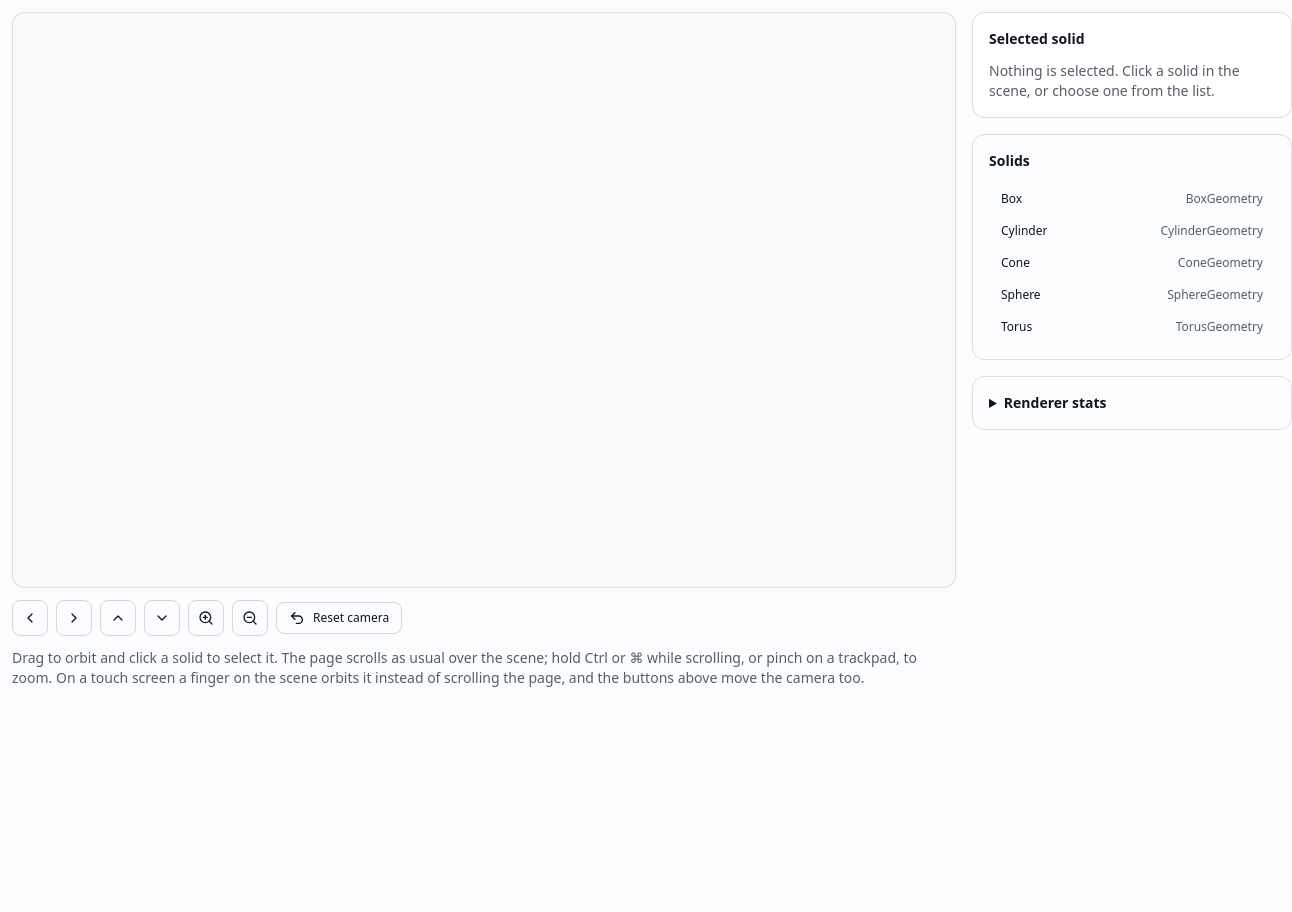
Scenario: selecting a solid › clears from a click on empty ground, and from the Clear button
Expected: the text "Nothing is selected" is shown, [989,61,1240,100]
Step 1. Click the button "Torus TorusGeometry" → (1017, 326), box [989,311,1275,343]
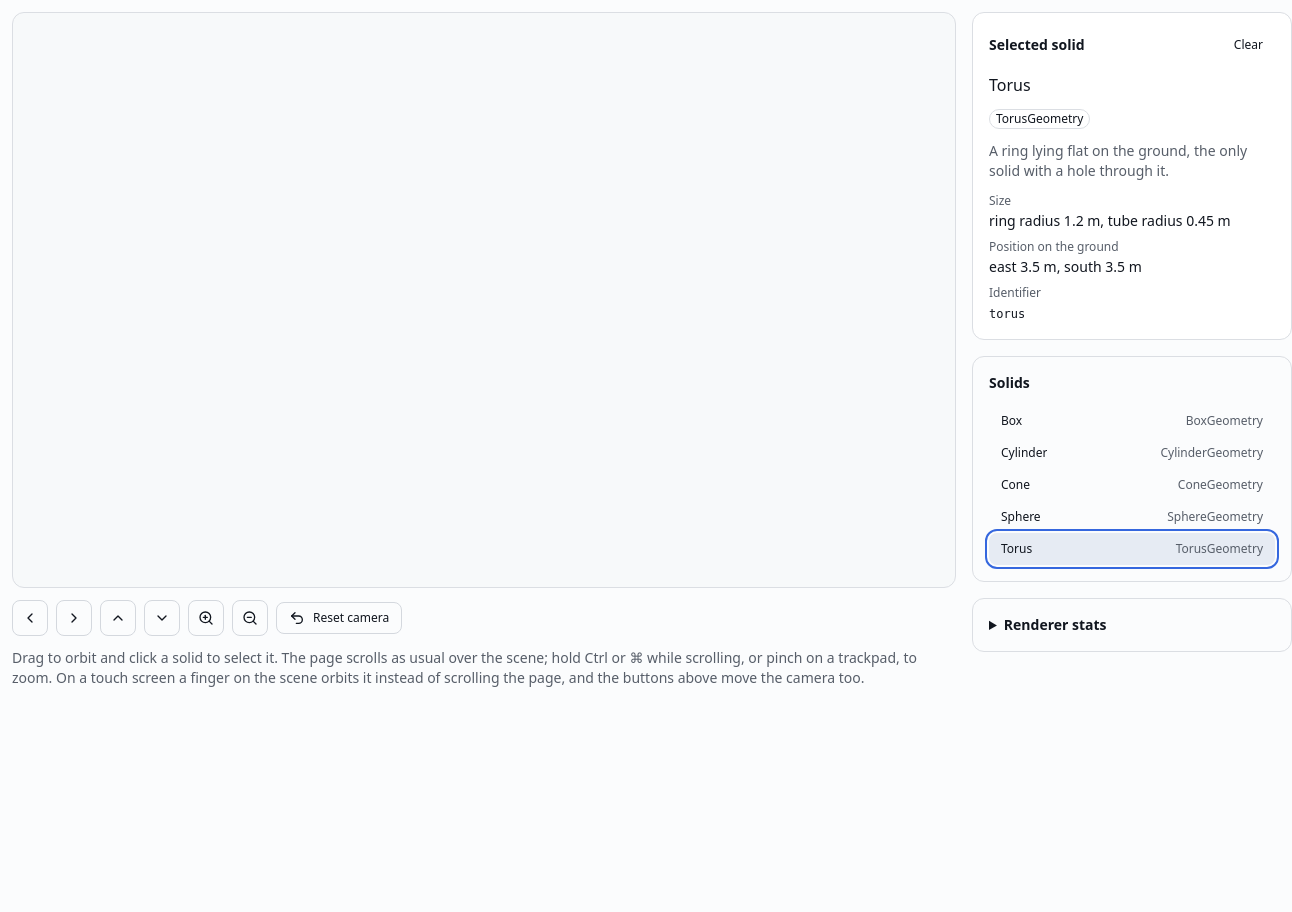
Step 2. Click the button "Clear" → (1248, 45), box [1222,29,1275,61]
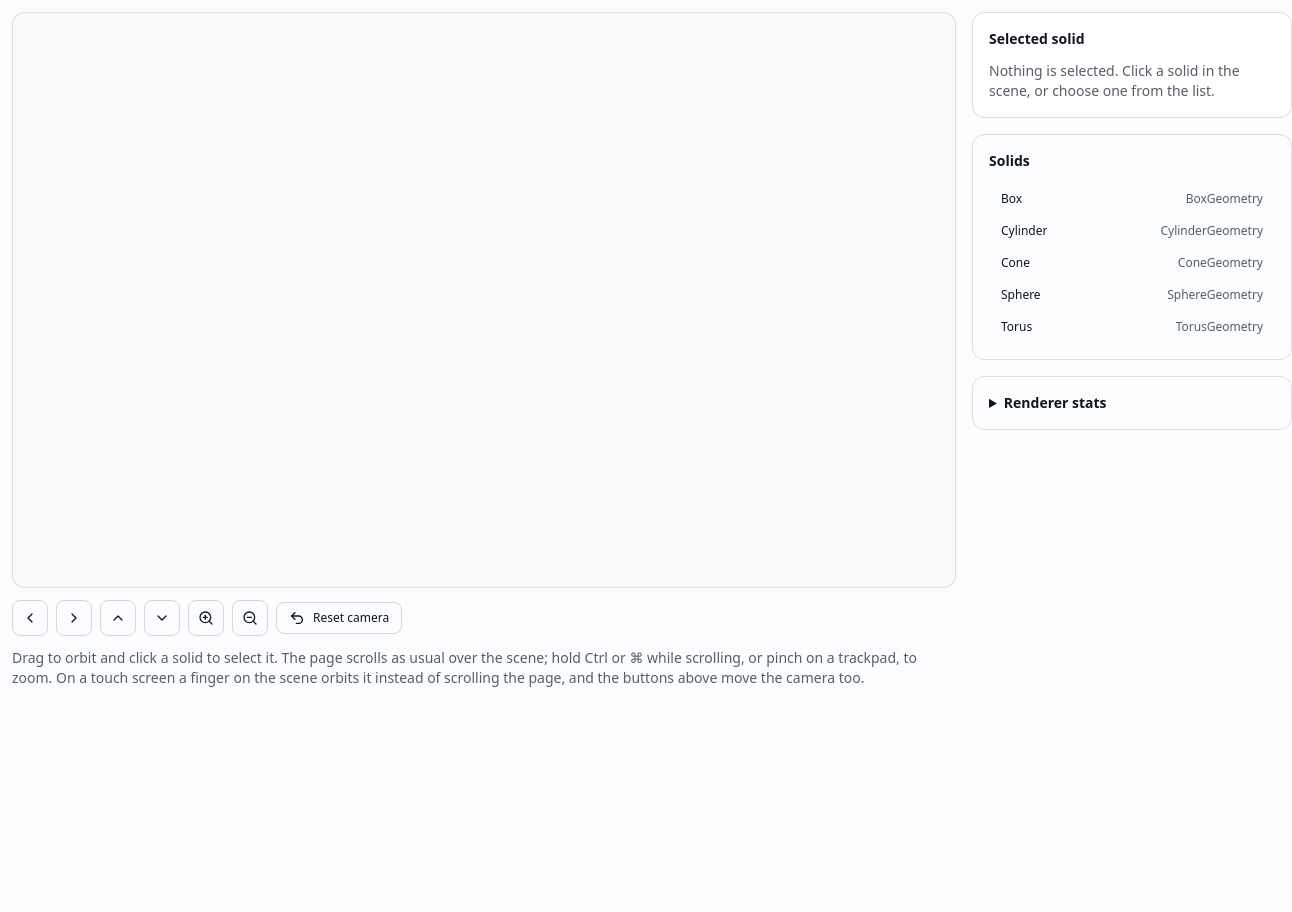
Now the text "Nothing is selected" is shown, box [989,61,1240,100]
